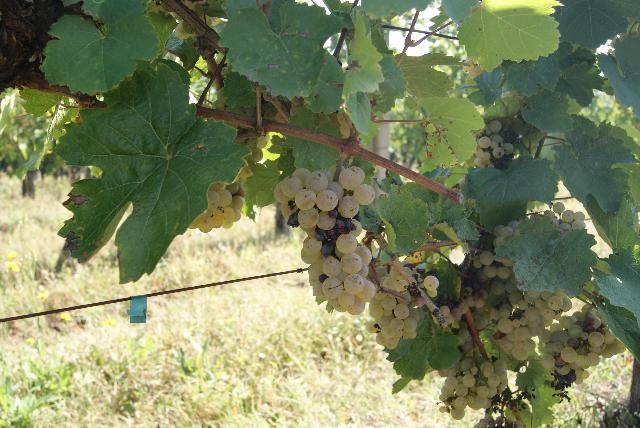grapes: (274, 166, 378, 315), (539, 306, 626, 385), (498, 292, 571, 361), (369, 266, 420, 350), (440, 358, 508, 411)
